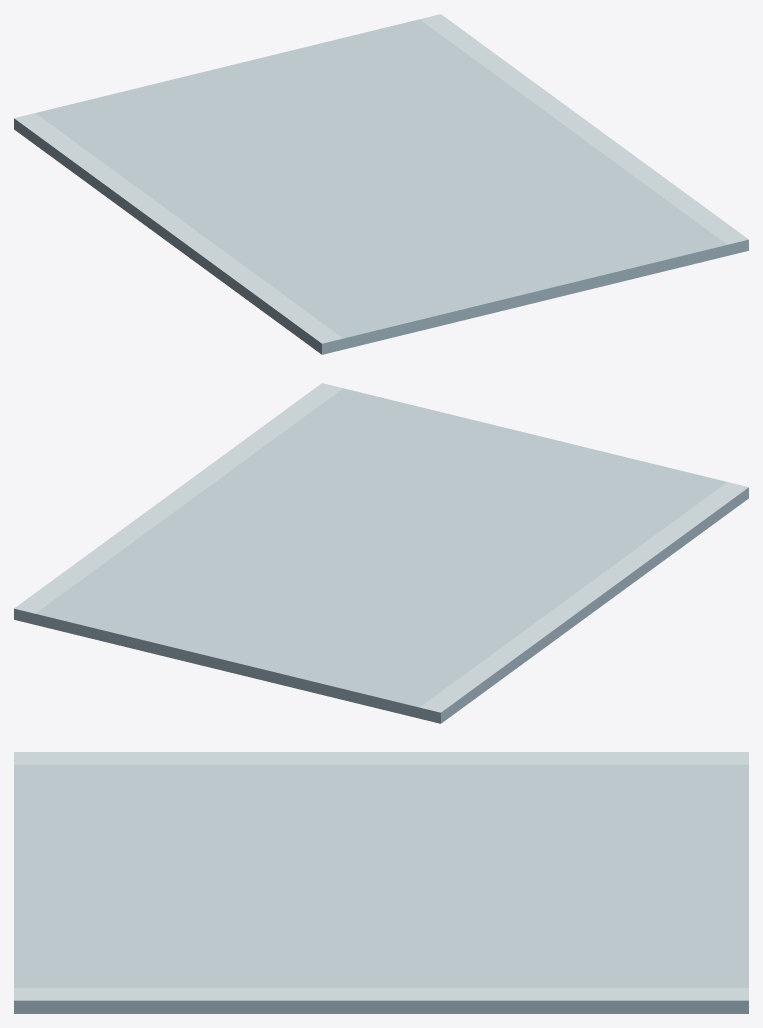
The model's file is campus_walk_straight_v01.glb.
The picture shows the model from 3 angles, top to bottom: view 1: azimuth 30°, elevation 25°; view 2: azimuth 150°, elevation 25°; view 3: azimuth 270°, elevation 25°; orthographic projection. The views are drawn at different scales.
Visible parts, largest first — view 1: campus_walk_straight; view 2: campus_walk_straight; view 3: campus_walk_straight.
Boxes of the visible parts, x1,y1,x2,y2 form: campus_walk_straight: (14,14,748,354); campus_walk_straight: (14,383,748,723); campus_walk_straight: (14,752,748,1013).
Bounding box in the file's own units: 3.2 × 0.08 × 4.
Materials: 1 (1 with a texture image).
